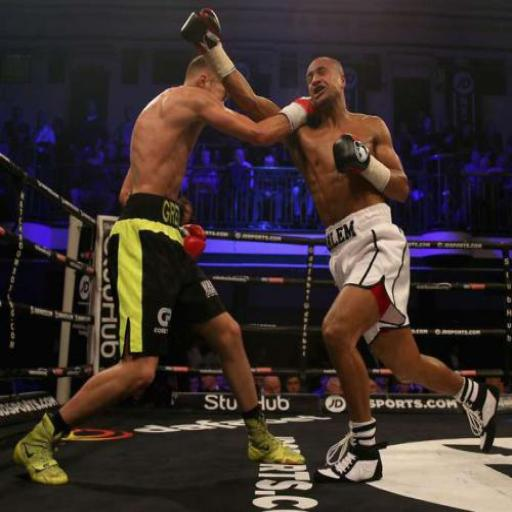boxing: (178, 7, 500, 484), (11, 7, 322, 486)
